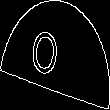O_S: (38, 25, 72, 85)
